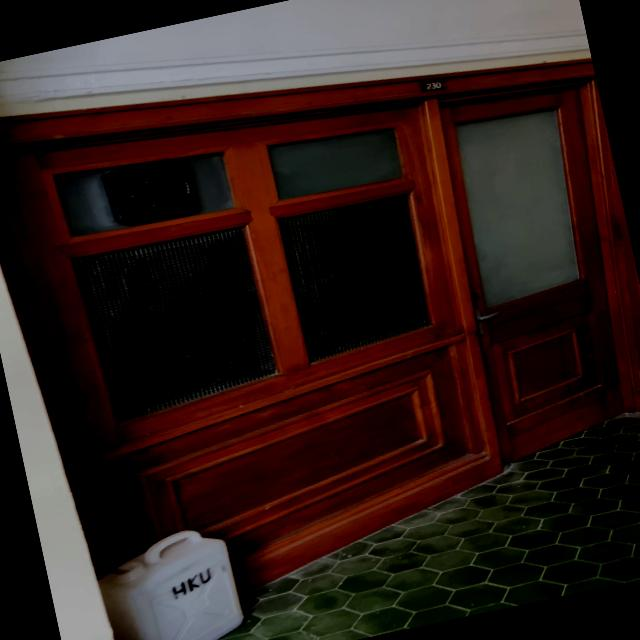room230: (417, 78, 448, 94)
